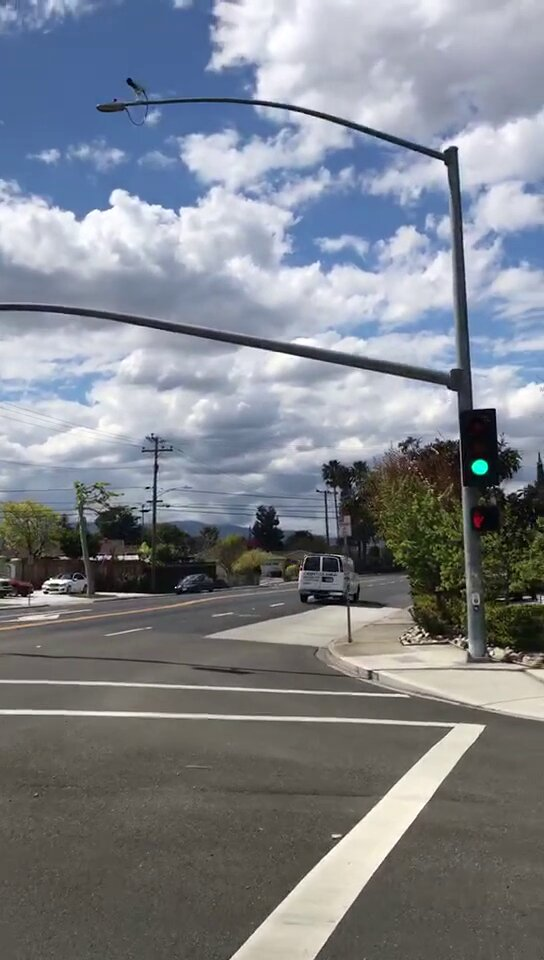green_light: (463, 411, 496, 485)
